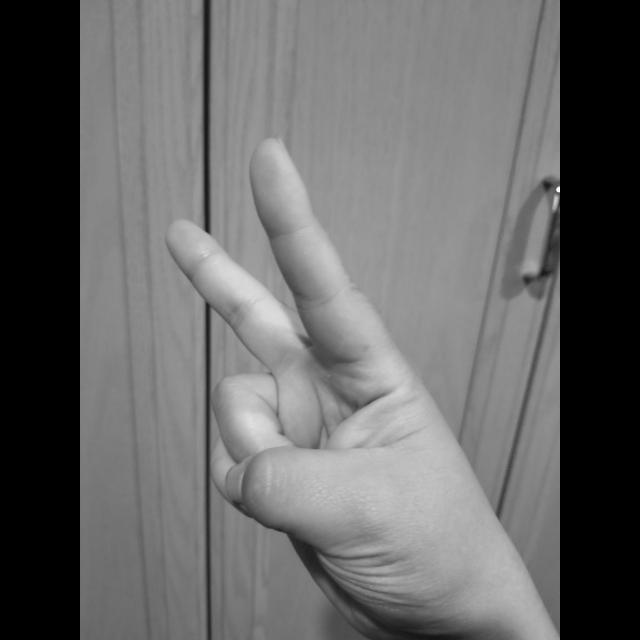V: (159, 130, 539, 640)
